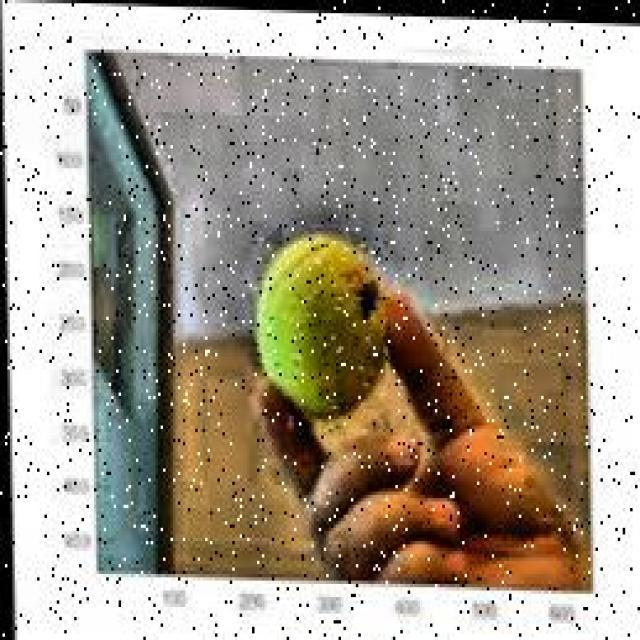tennis-ball: (252, 228, 391, 436)
